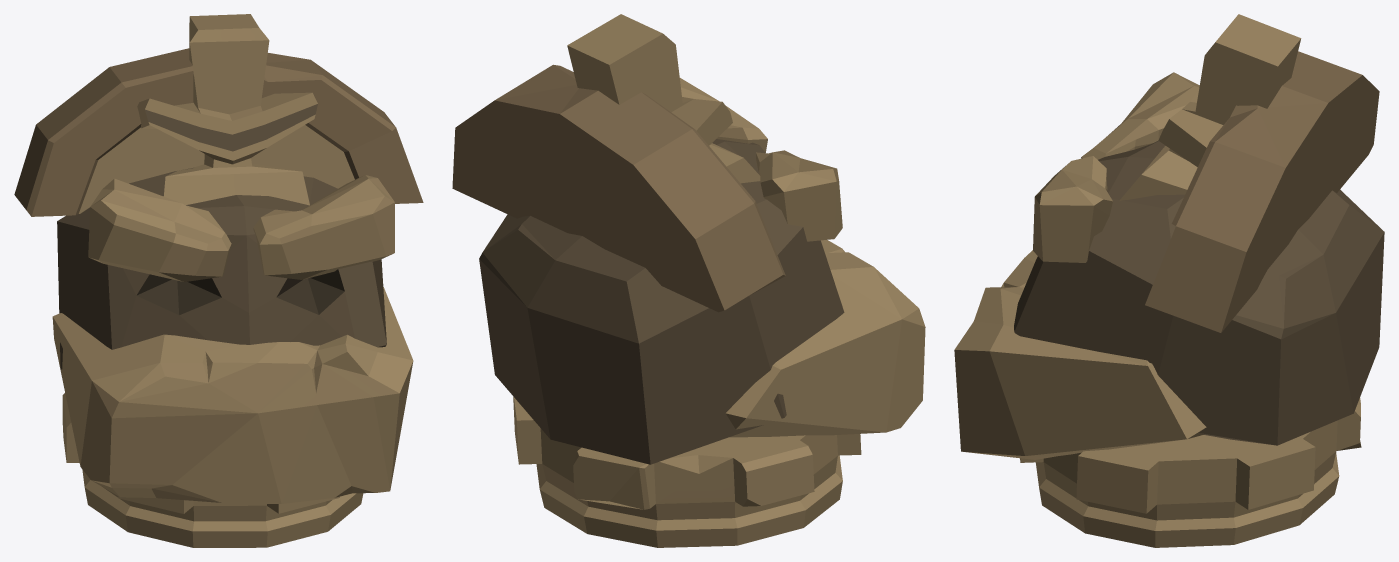
File: head.gltf
3 views of the same model, side by side, from view 1: azimuth 30°, elevation 25°; view 2: azimuth 150°, elevation 25°; view 3: azimuth 270°, elevation 25° (orthographic). The views are drawn at different scales.
Visible parts, largest first — view 1: head; view 2: head; view 3: head.
Boxes of the visible parts, x1,y1,x2,y2 form: head: (14, 14, 423, 547); head: (452, 14, 925, 547); head: (954, 14, 1384, 547).
Size of the model in its own units: 2.31 by 2.68 by 2.19.
1 material, 1 textured.
